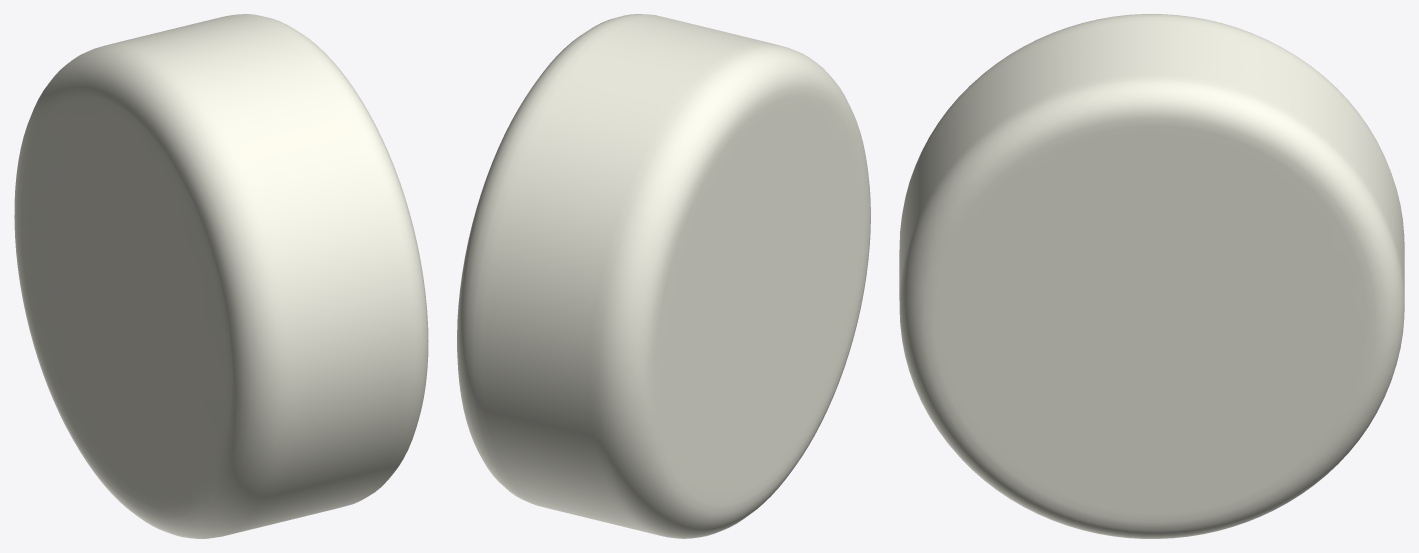
File: Round_Pill_Individual_Beige.glb
3 renders of one model, left to right at view 1: azimuth 30°, elevation 25°; view 2: azimuth 150°, elevation 25°; view 3: azimuth 270°, elevation 25°, orthographic.
Visible parts, largest first — view 1: Round_Pill.012; view 2: Round_Pill.012; view 3: Round_Pill.012.
Boxes of the visible parts, x1,y1,x2,y2 form: Round_Pill.012: [14, 14, 428, 538]; Round_Pill.012: [457, 14, 870, 538]; Round_Pill.012: [899, 14, 1404, 538].
Size of the model in its own units: 0.5811 by 1.35 by 1.35.
Materials: 1 (1 with a texture image).
